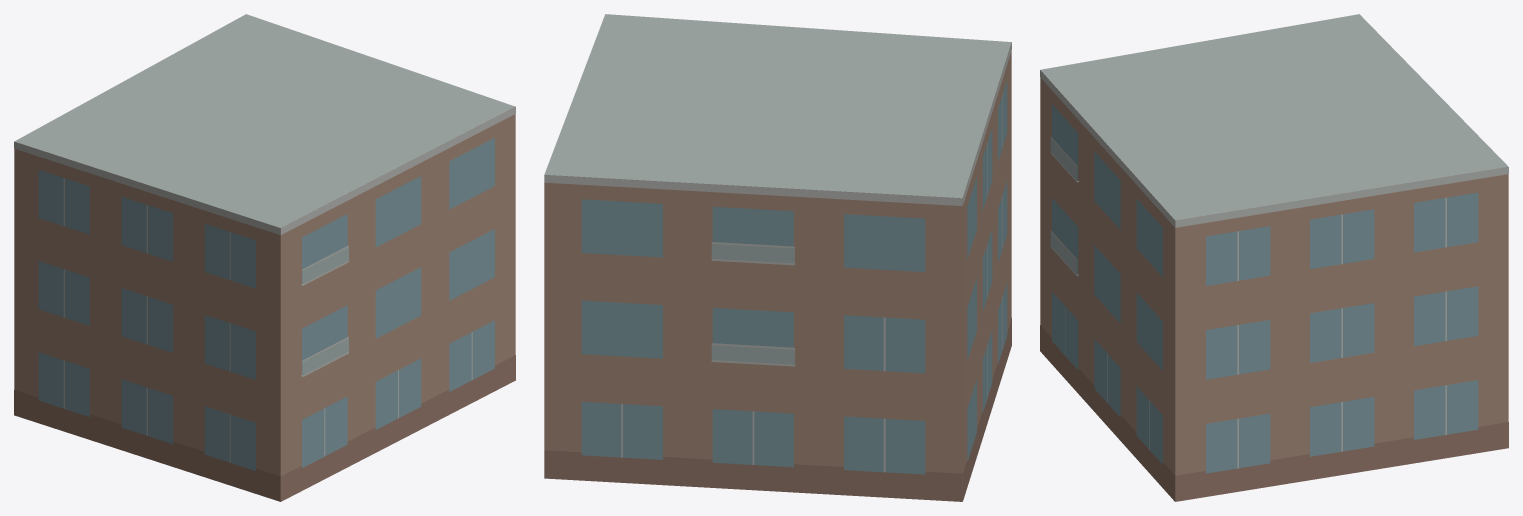
The model's file is survey-upis-32862270.glb.
The picture shows the model from 3 angles, left to right: view 1: azimuth 30°, elevation 25°; view 2: azimuth 150°, elevation 25°; view 3: azimuth 270°, elevation 25°; orthographic projection. The views are drawn at different scales.
Parts seen in each view (by area): view 1: survey-upis-32862270.tmp; view 2: survey-upis-32862270.tmp; view 3: survey-upis-32862270.tmp.
Part boxes in pixels (x1,y1,x2,y2): survey-upis-32862270.tmp: (14, 14, 515, 501); survey-upis-32862270.tmp: (544, 14, 1011, 501); survey-upis-32862270.tmp: (1040, 14, 1508, 501).
Size of the model in its own units: 14.81 by 9.4 by 14.2.
